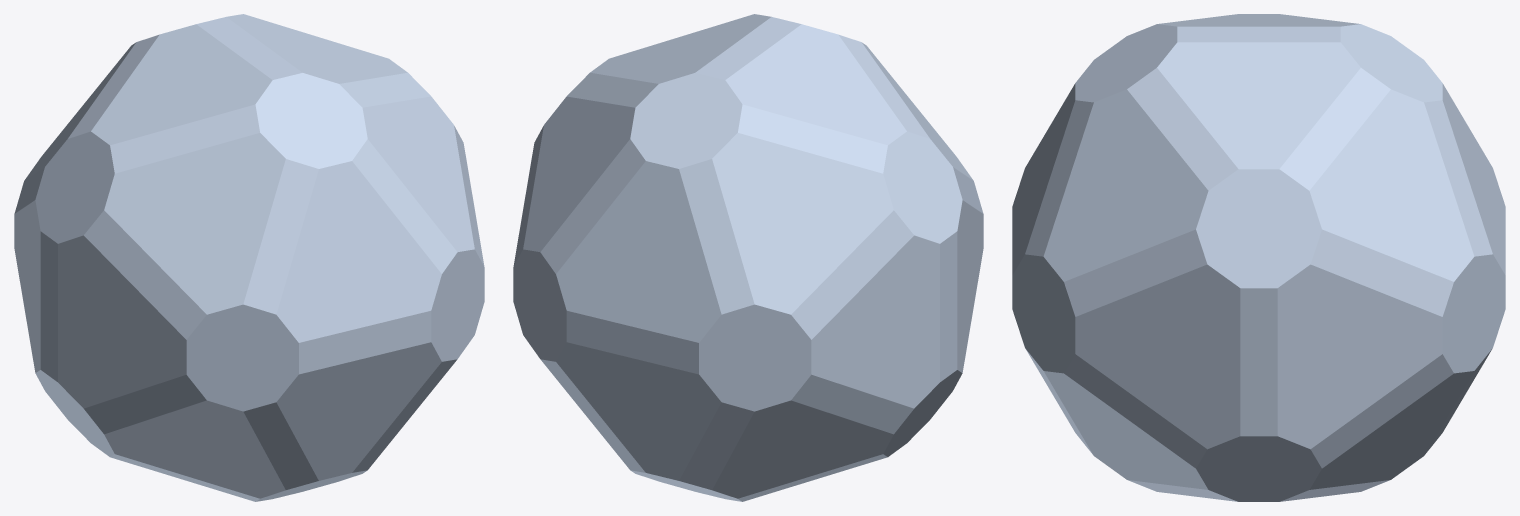
The model's file is polyhedron.glb.
The picture shows the model from 3 angles, left to right: view 1: azimuth 30°, elevation 25°; view 2: azimuth 150°, elevation 25°; view 3: azimuth 270°, elevation 25°; orthographic projection. The views are drawn at different scales.
Size of the model in its own units: 24.18 by 24.18 by 24.18.
